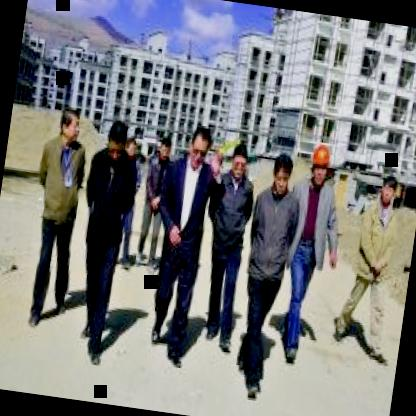head: (100, 115, 132, 166), (52, 101, 86, 146), (267, 146, 295, 196), (186, 124, 212, 168), (229, 140, 254, 182), (376, 170, 400, 212), (154, 132, 178, 162)
helmet: (306, 138, 334, 188)
